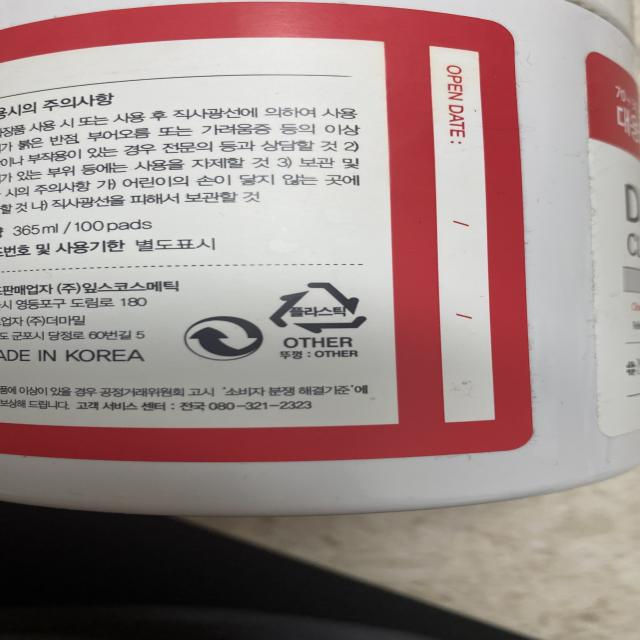Plastic: (260, 275, 377, 335)
